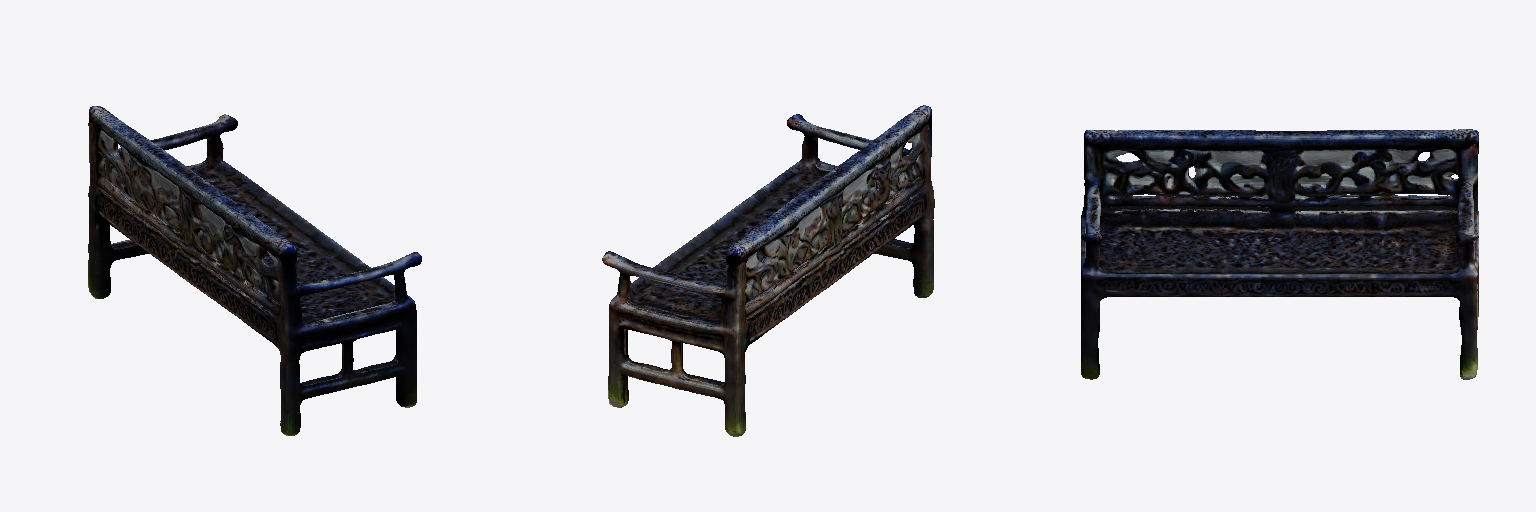
3 renders of one model, left to right at view 1: azimuth 30°, elevation 25°; view 2: azimuth 150°, elevation 25°; view 3: azimuth 270°, elevation 25°, orthographic.
Visible parts, largest first — view 1: mesh; view 2: mesh; view 3: mesh.
Boxes of the visible parts, <box> form: mesh: <box>88,106,421,435</box>; mesh: <box>602,105,934,436</box>; mesh: <box>1081,129,1478,379</box>.
Bounding box in the file's own units: 0.4137 × 0.5239 × 0.9953.
Materials: 1 (1 with a texture image).